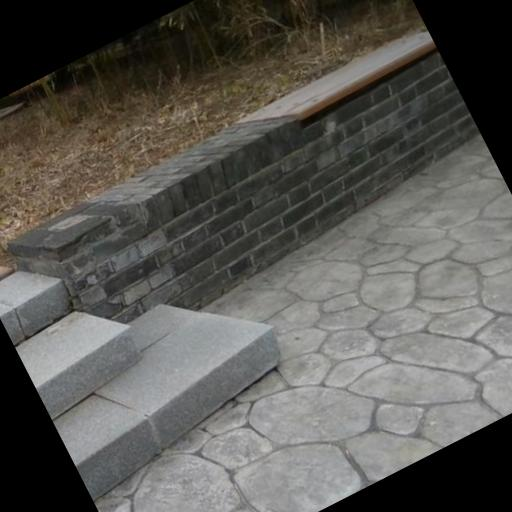stairs: (0, 273, 277, 499), (16, 312, 139, 419)
